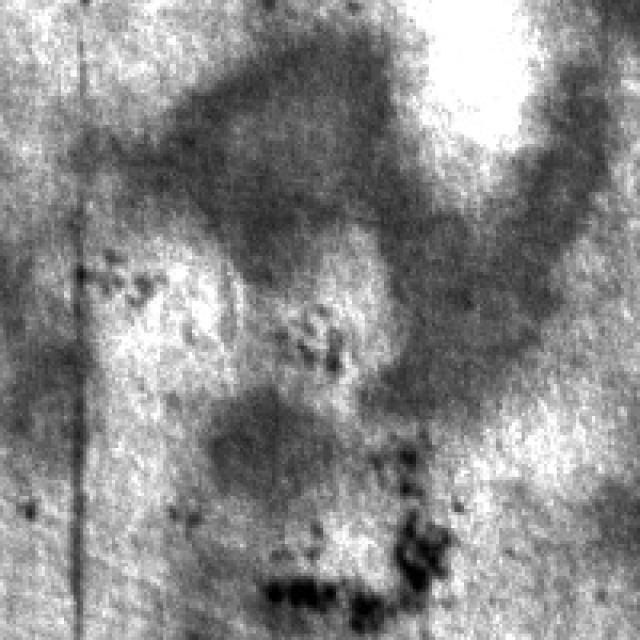inclusion: (272, 470, 467, 621)
patches: (122, 16, 624, 416), (189, 381, 352, 634)
